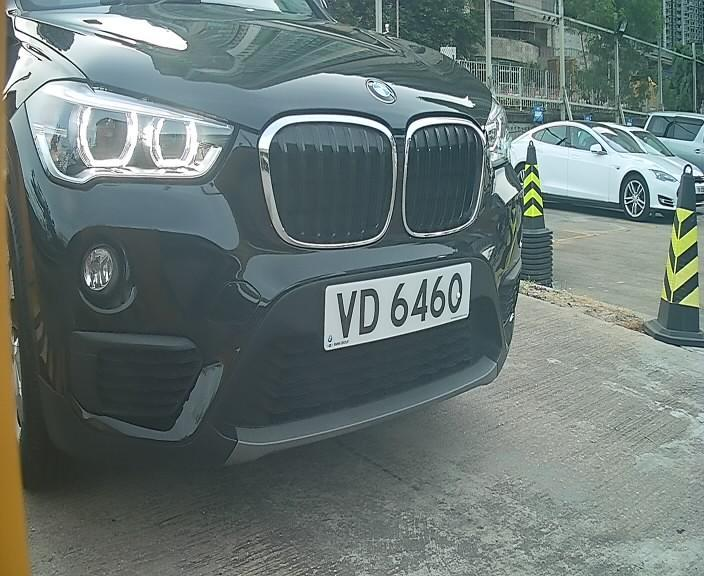License Plate: (318, 255, 475, 350)
